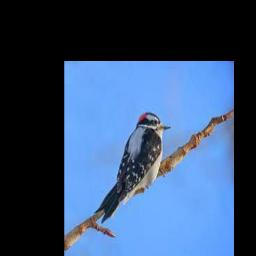Woodpecker: (95, 112, 171, 223)
